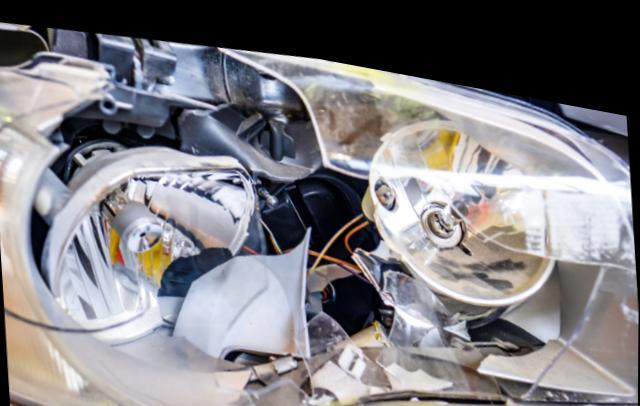lamp broken: (0, 23, 639, 406)
